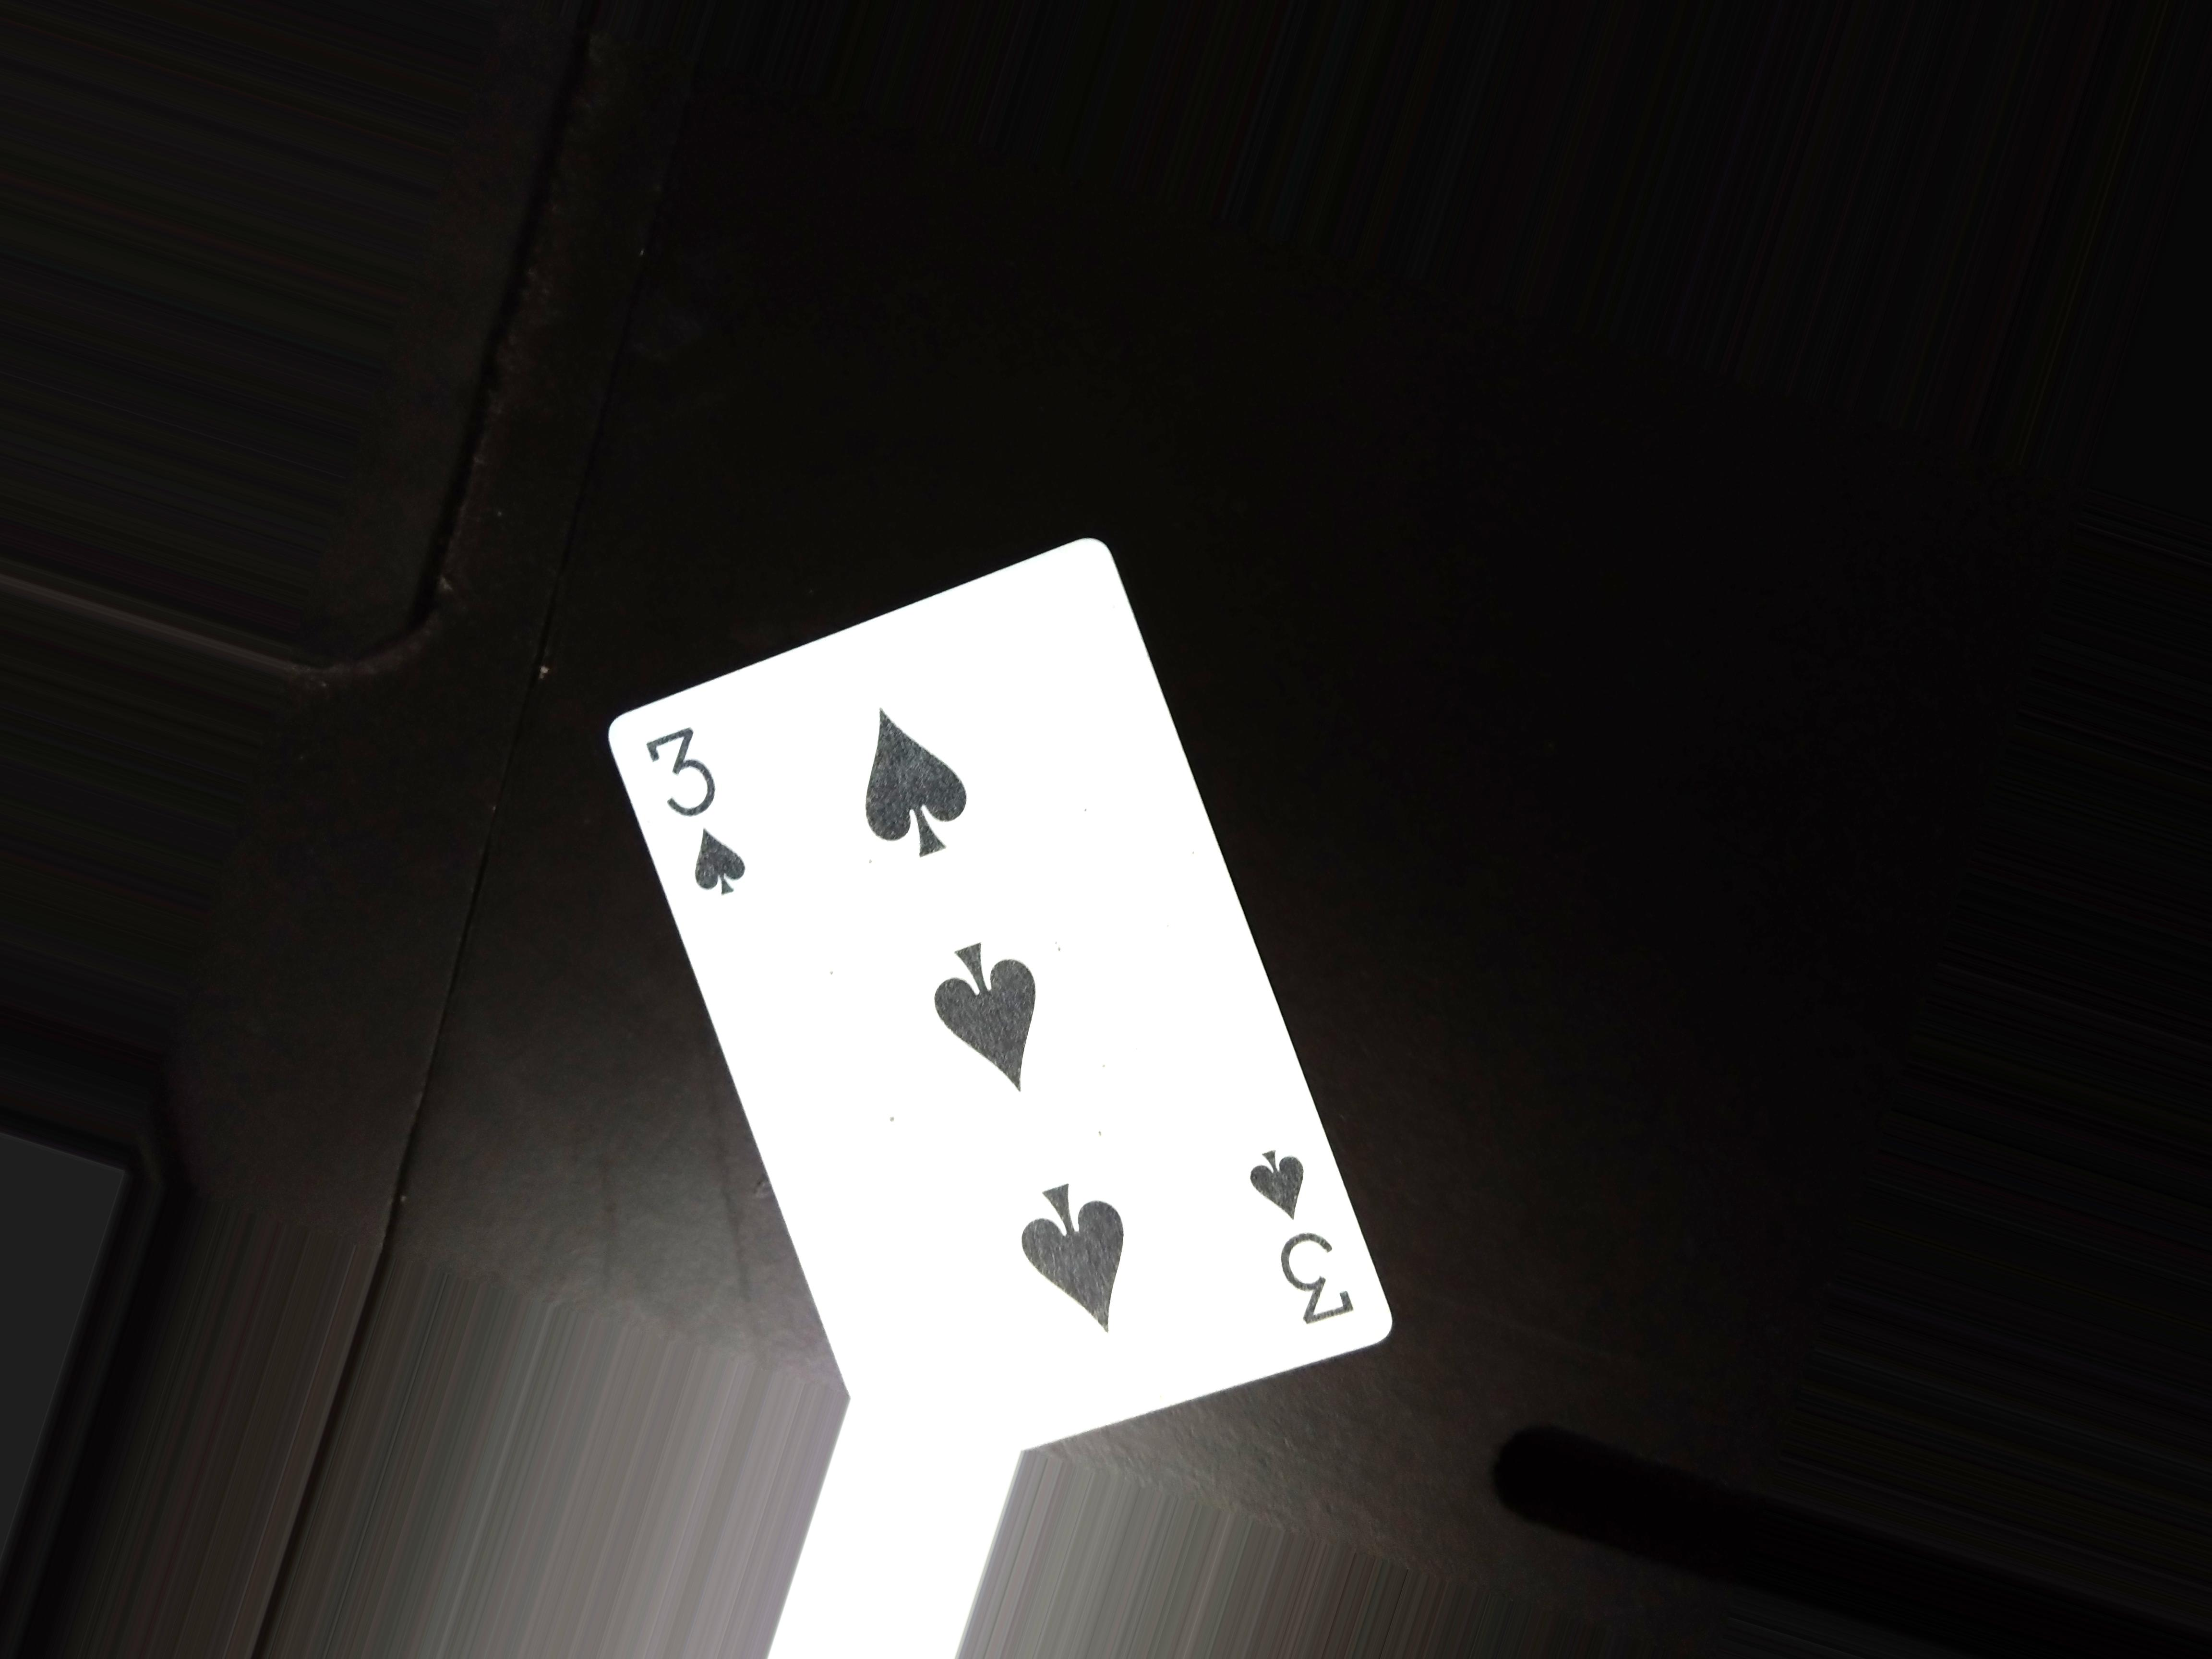3S: (637, 718, 766, 906)
